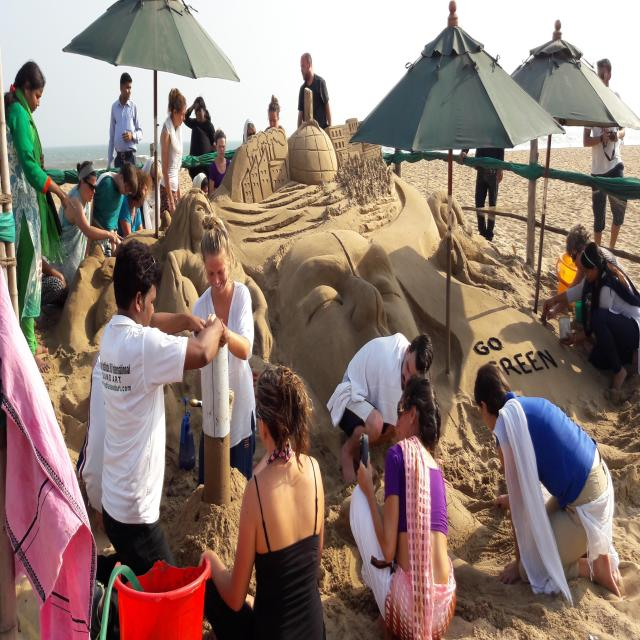body: (97, 236, 231, 577), (472, 362, 624, 605), (196, 362, 328, 640), (348, 371, 457, 640), (276, 226, 422, 392), (3, 60, 77, 374), (191, 213, 257, 487), (325, 331, 435, 491), (542, 239, 640, 395), (545, 223, 637, 351), (54, 160, 124, 290), (583, 57, 628, 250), (74, 350, 108, 520), (317, 150, 393, 219), (88, 161, 138, 258), (459, 147, 505, 243), (159, 88, 188, 218), (106, 71, 144, 170), (32, 244, 70, 336), (182, 95, 216, 194), (296, 51, 332, 131), (238, 93, 286, 148), (116, 169, 152, 241), (137, 154, 164, 232), (188, 170, 212, 253), (438, 198, 463, 276), (208, 126, 232, 198), (98, 256, 116, 284)
